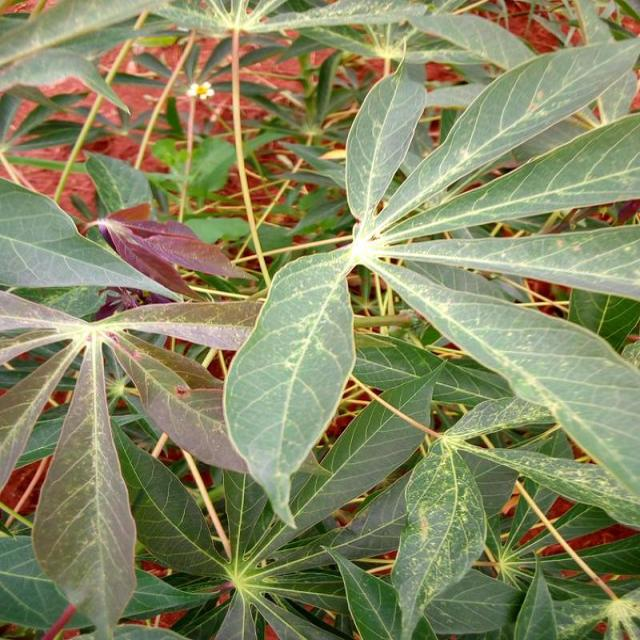cassava leaf: (1, 4, 638, 637), (221, 244, 357, 529), (29, 334, 138, 636)
